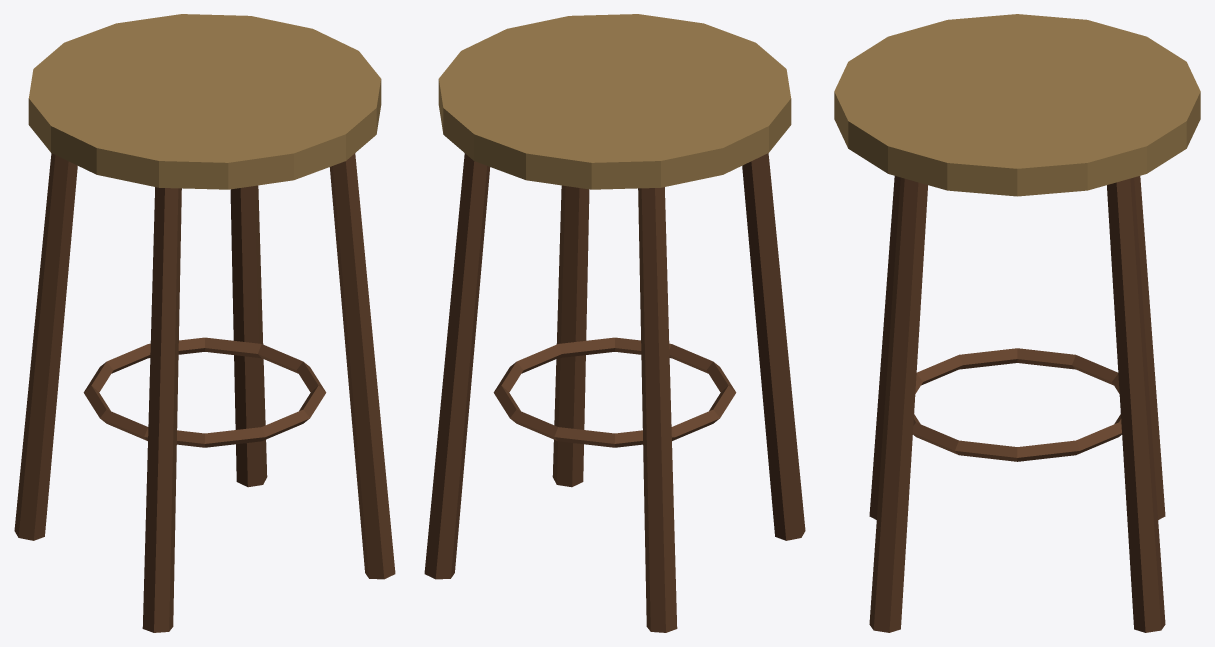
File: stool.fbx
The picture shows the model from 3 angles, left to right: view 1: azimuth 30°, elevation 25°; view 2: azimuth 150°, elevation 25°; view 3: azimuth 270°, elevation 25°; orthographic projection. The views are drawn at different scales.
Parts seen in each view (by area): view 1: stool; view 2: stool; view 3: stool.
Part boxes in pixels (x1,y1,x2,y2): stool: (14, 14, 395, 632); stool: (424, 14, 805, 632); stool: (834, 14, 1200, 632).
Bounding box in the file's own units: 0.36 × 0.5214 × 0.36.
